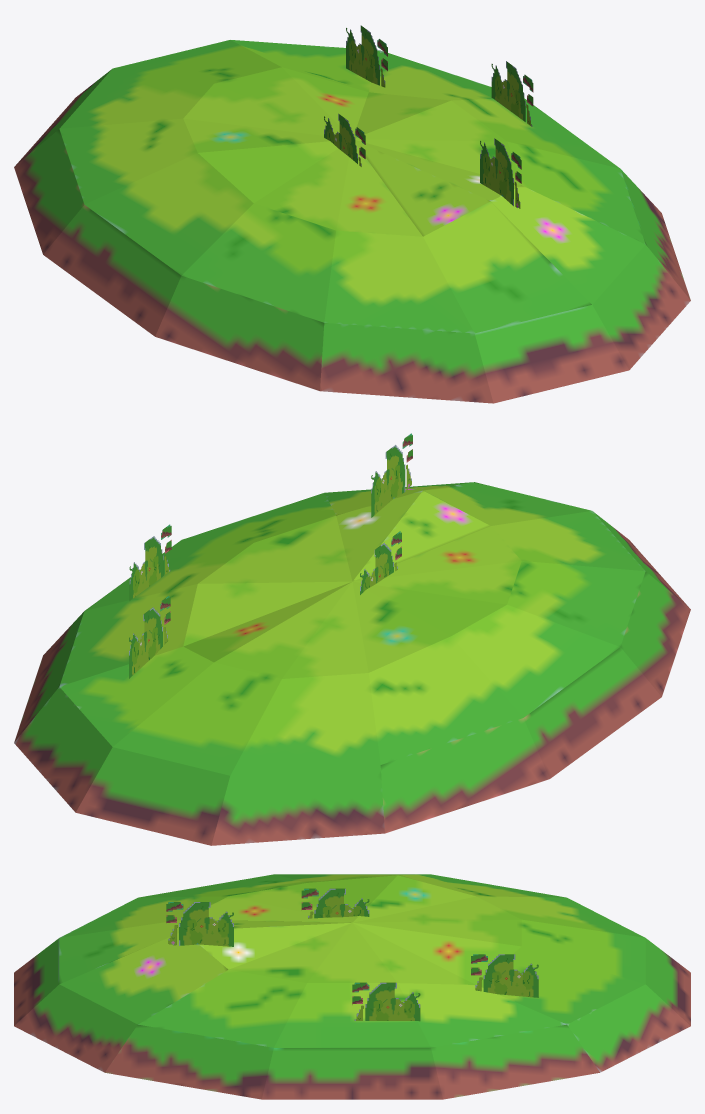
File: Mound.fbx
3 views of the same model, one above another, from view 1: azimuth 30°, elevation 25°; view 2: azimuth 150°, elevation 25°; view 3: azimuth 270°, elevation 25° (orthographic). The views are drawn at different scales.
Visible parts, largest first — view 1: sphere, plane, plane_2, plane_3, plane_1; view 2: sphere, plane, plane_2, plane_3, plane_1; view 3: sphere, plane, plane_2, plane_3, plane_1.
Part boxes in pixels (left/top/right/bottom): sphere: left=14, top=40, right=690, bottom=403; plane: left=480, top=138, right=521, bottom=208; plane_2: left=346, top=25, right=387, bottom=87; plane_3: left=491, top=61, right=533, bottom=126; plane_1: left=324, top=113, right=365, bottom=166; sphere: left=14, top=482, right=690, bottom=845; plane: left=371, top=433, right=412, bottom=517; plane_2: left=129, top=596, right=170, bottom=678; plane_3: left=129, top=524, right=171, bottom=600; plane_1: left=360, top=531, right=401, bottom=594; sphere: left=14, top=874, right=690, bottom=1099; plane: left=166, top=902, right=233, bottom=946; plane_2: left=471, top=954, right=538, bottom=997; plane_3: left=352, top=982, right=420, bottom=1021; plane_1: left=301, top=888, right=369, bottom=918.
Size of the model in its own units: 175 by 48.44 by 250.
Materials: 2 (2 with a texture image).
